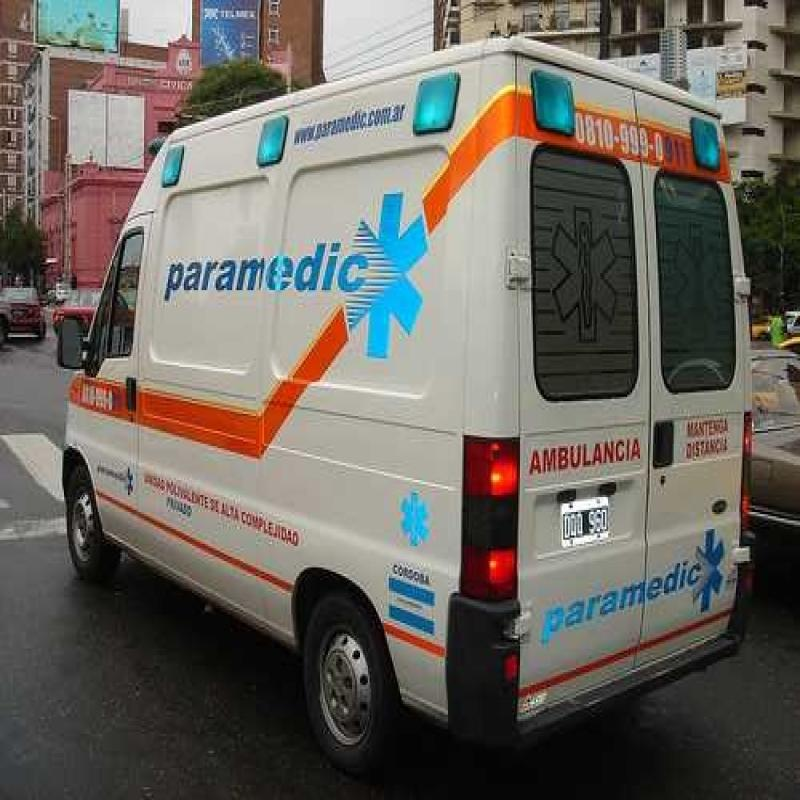AmbulanceSiren: (671, 97, 739, 188), (400, 64, 457, 164), (526, 72, 581, 156), (143, 125, 193, 202), (240, 109, 292, 182)
